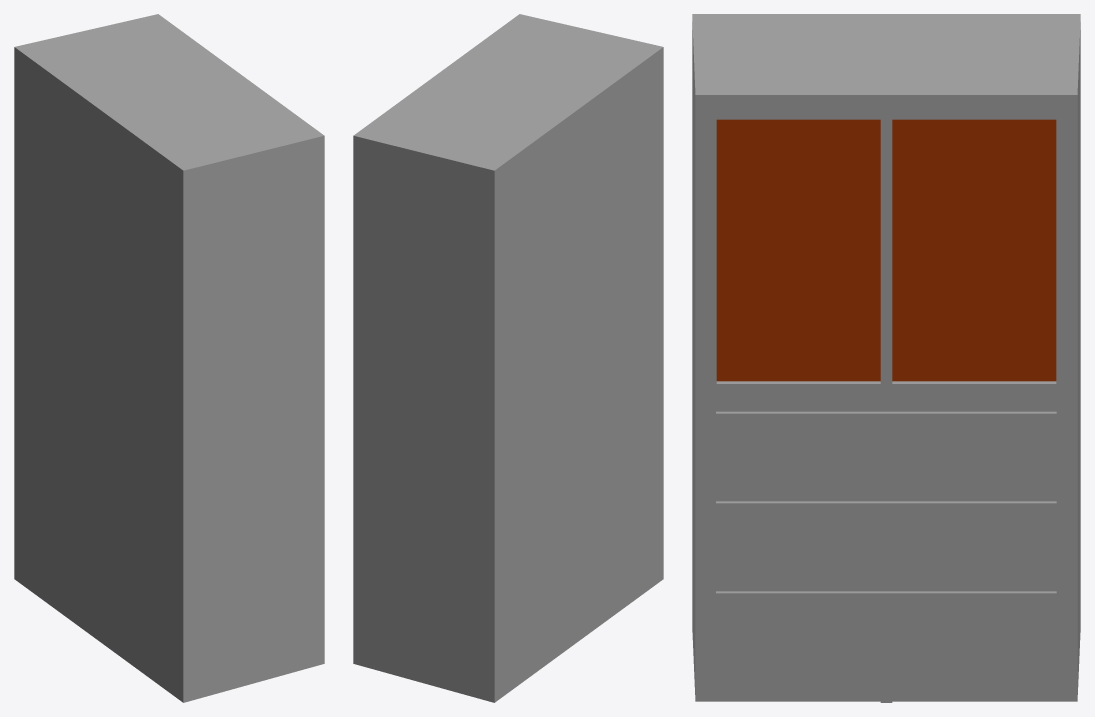
File: labbskap.fbx
3 views of the same model, side by side, from view 1: azimuth 30°, elevation 25°; view 2: azimuth 150°, elevation 25°; view 3: azimuth 270°, elevation 25° (orthographic). The views are drawn at different scales.
Parts seen in each view (by area): view 1: polySurface3; view 2: polySurface3; view 3: polySurface3.
Part boxes in pixels (<box>): polySurface3: <box>14,14,324,702</box>; polySurface3: <box>353,14,663,702</box>; polySurface3: <box>692,14,1080,702</box>.
Bounding box in the file's own units: 1.24 × 4.32 × 2.49.
